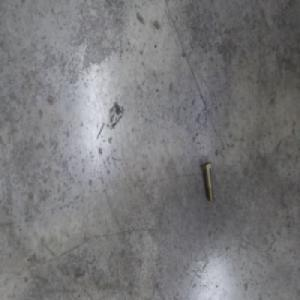Bolt: (200, 159, 213, 201)
